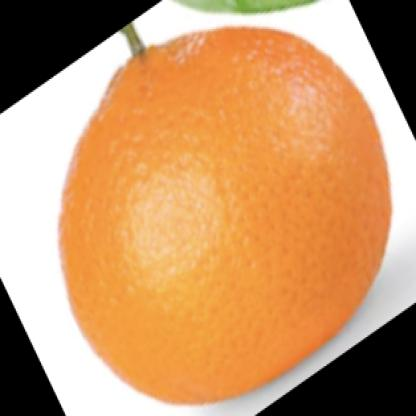fresh: (60, 27, 391, 405)
